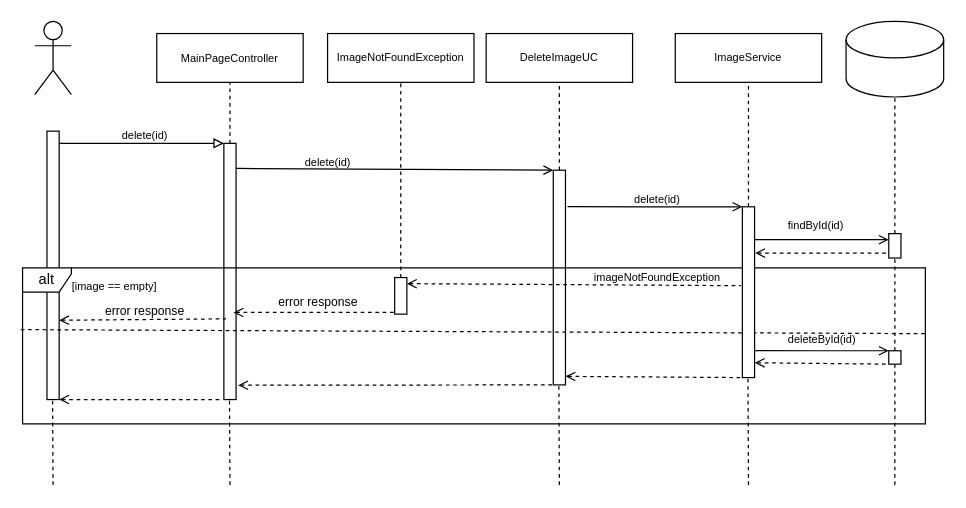
This 966x508 diagram has some shape labels left out. The shapes that lost their labels are listed below. From the top down, each one's centre as x and y in pixels, then its label:
(x=52, y=57): Frontend
(x=894, y=58): postgres
